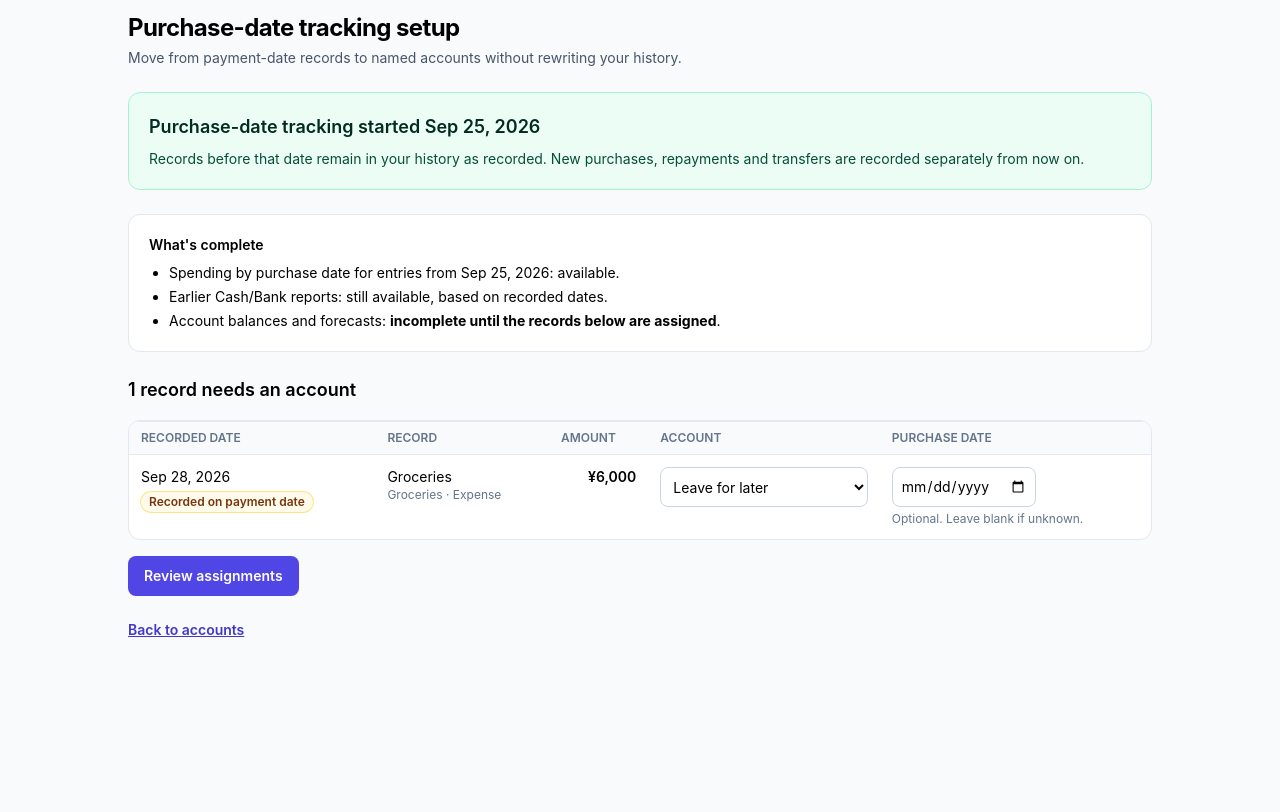
Test case: lets a returning user assign remaining records through a read-only preview first
The width and height of the screenshot is (1280, 812).
Expected: the heading "1 record needs an account" is shown, [128,379,356,400]
Select "Rewards Card" in the dropdown named "Account for record on 2026-09-28" at coordinates (764, 487), box [660,467,868,507]
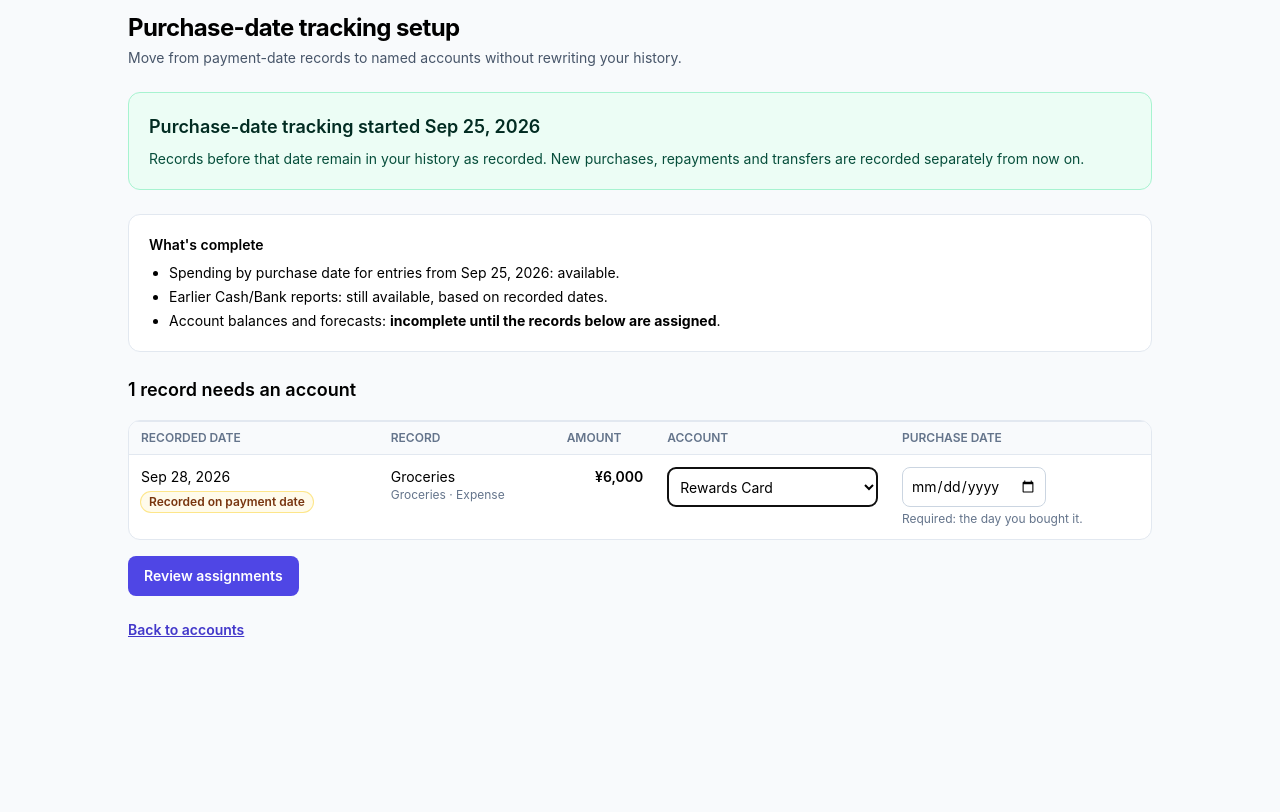
Type "2026-09-26" into the date field named "Purchase date for record" at coordinates (974, 487), box [902,467,1046,507]
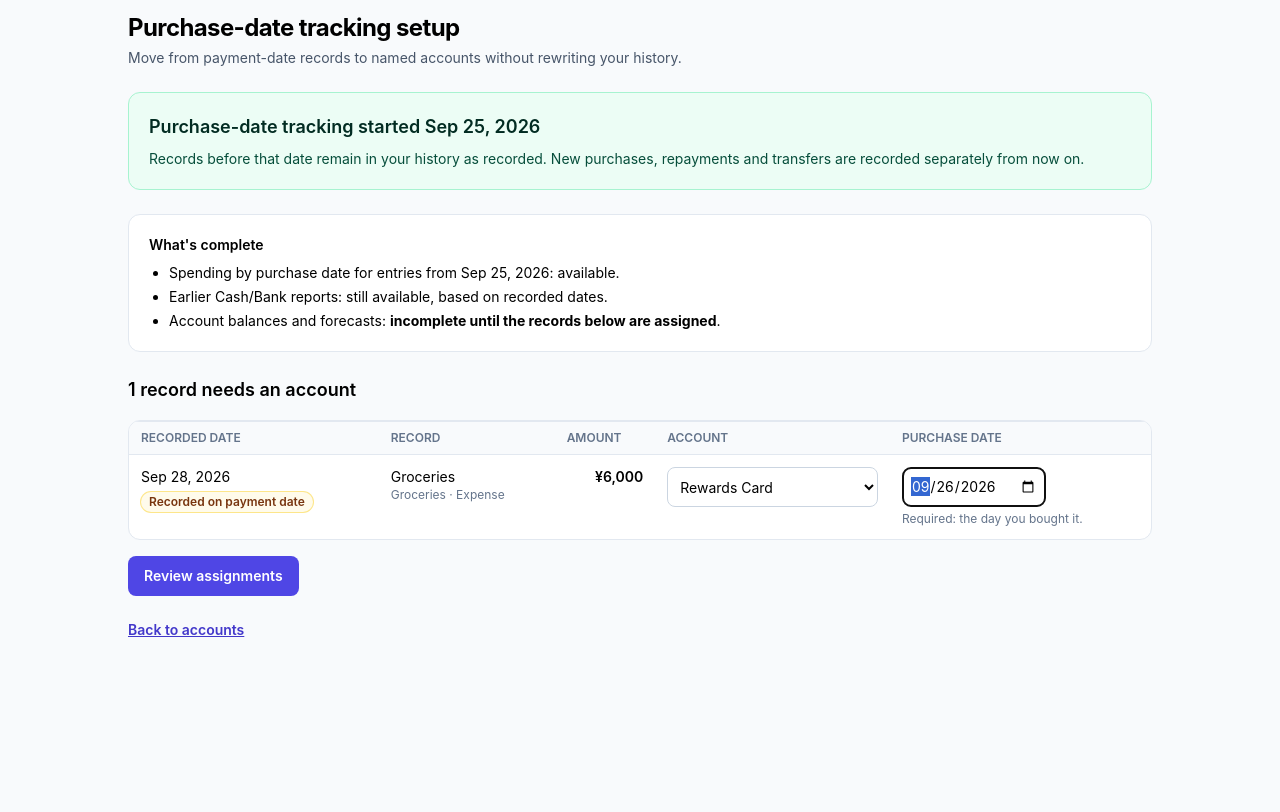
Click the button "Review assignments" at coordinates (213, 576), box [128,556,299,596]
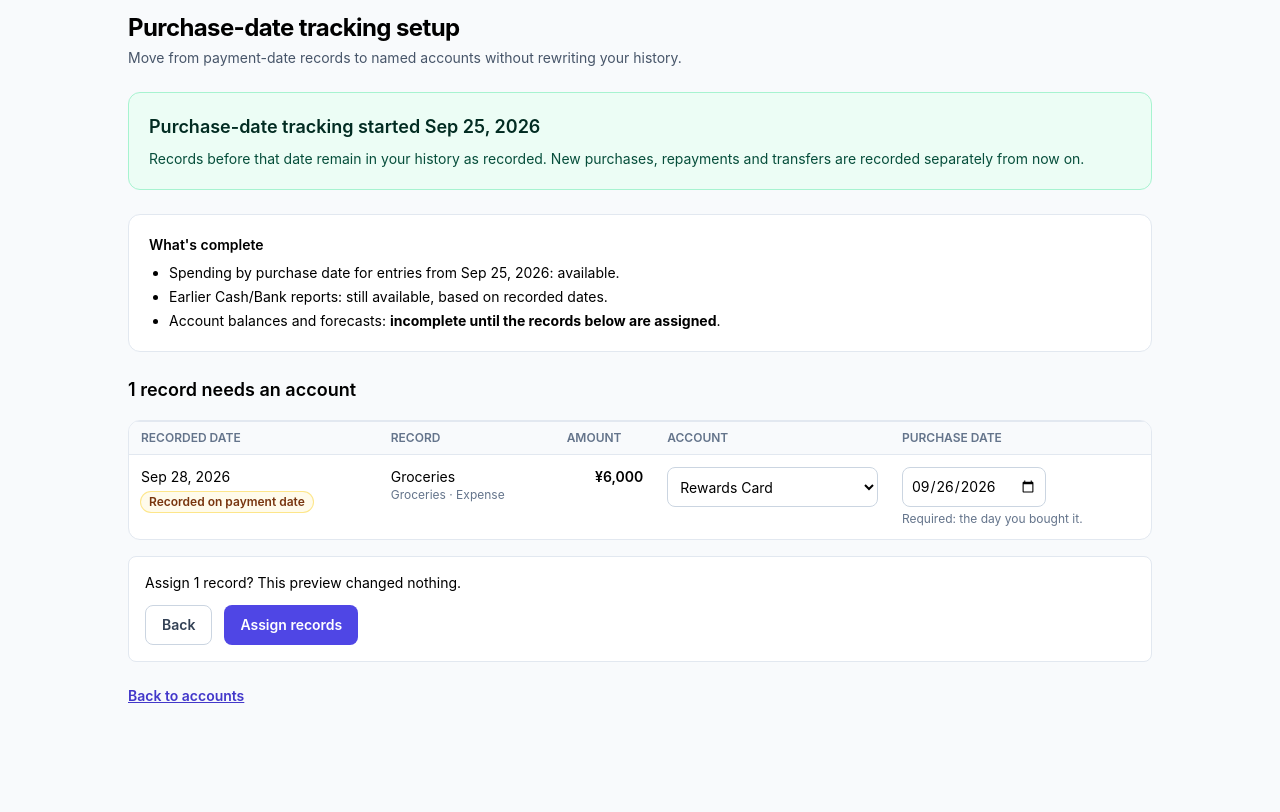
Click the button "Assign records" at coordinates (291, 625), box [224,605,358,645]
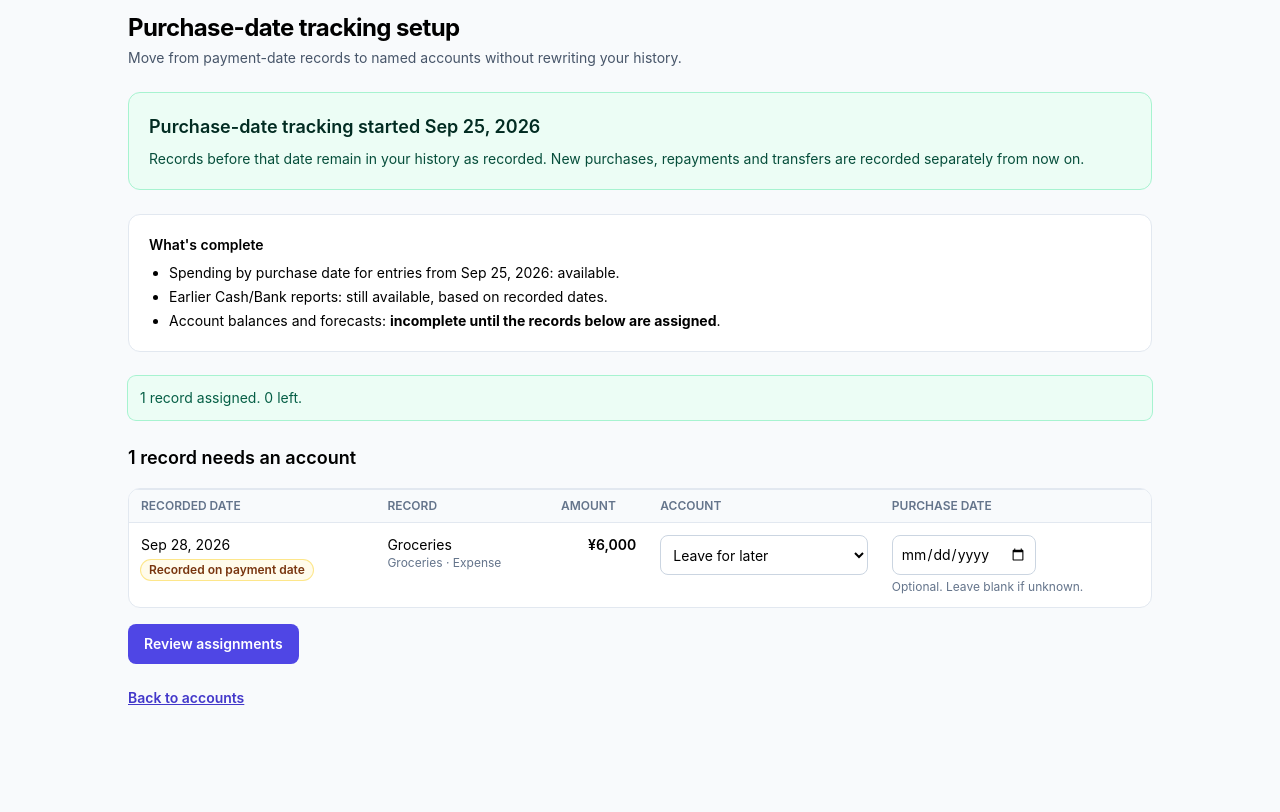
Expected: the text "1 record assigned. 0 left." is shown, [128,376,1152,420]
